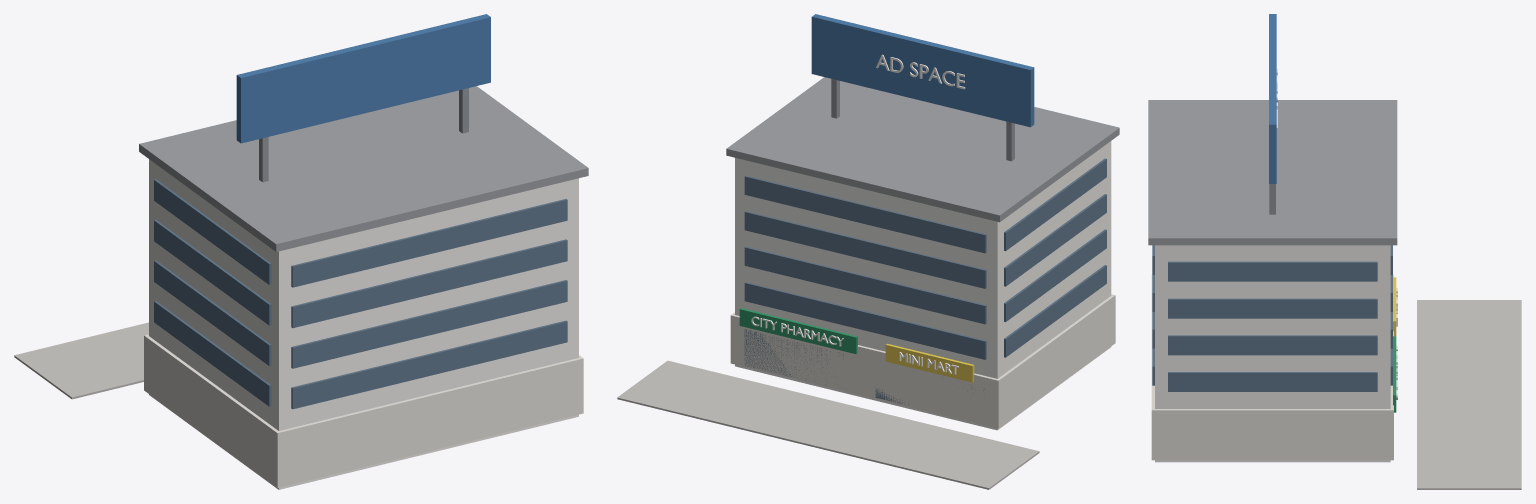
The model's file is garki_block_3.glb.
3 renders of one model, left to right at view 1: azimuth 30°, elevation 25°; view 2: azimuth 150°, elevation 25°; view 3: azimuth 270°, elevation 25°, orthographic. The views are drawn at different scales.
Parts seen in each view (by area): view 1: BLD_garki_block_3; view 2: BLD_garki_block_3; view 3: BLD_garki_block_3.
Boxes of the visible parts, x1,y1,x2,y2 form: BLD_garki_block_3: [14, 14, 588, 489]; BLD_garki_block_3: [617, 14, 1119, 489]; BLD_garki_block_3: [1148, 14, 1521, 489].
Bounding box in the file's own units: 34 × 27.5 × 28.5.
